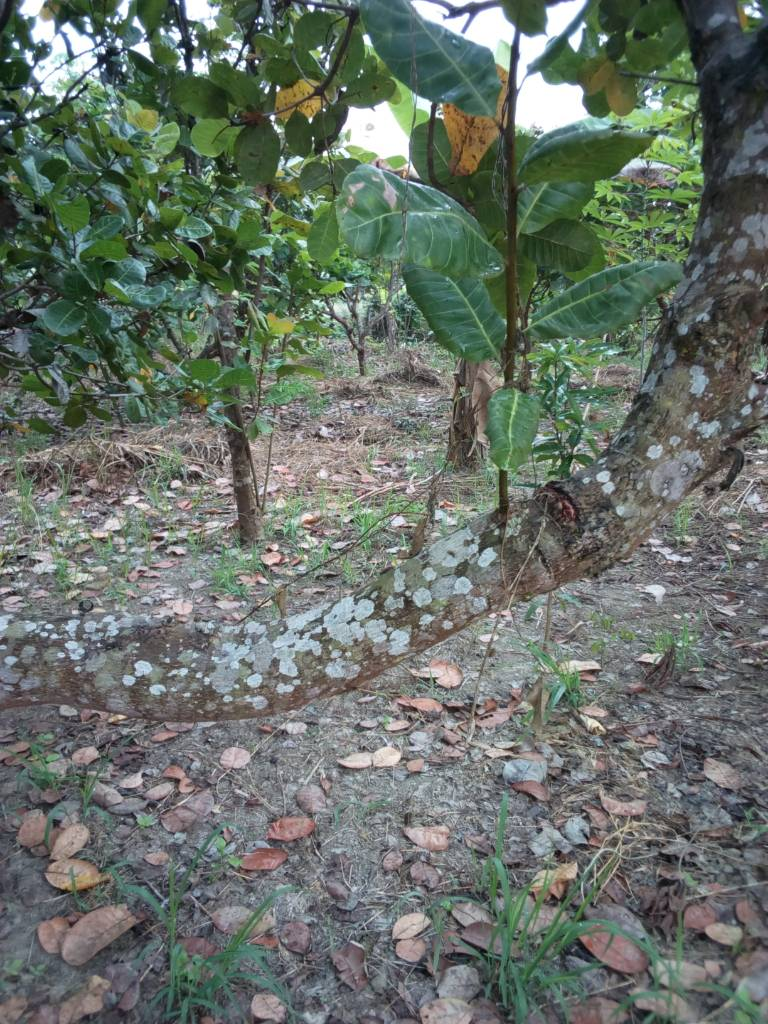Helopeltis anacardii: (332, 167, 508, 264), (524, 258, 696, 335), (515, 117, 654, 183), (485, 385, 538, 467)
